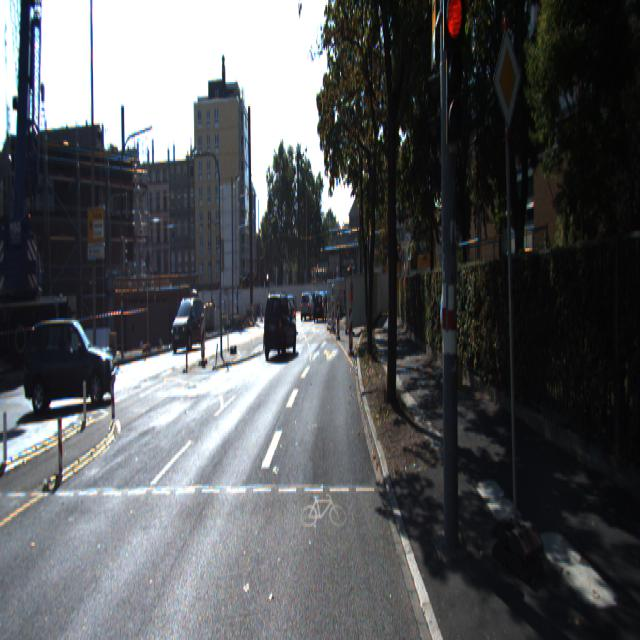Car: (26, 318, 118, 423), (262, 288, 298, 358), (170, 292, 205, 350), (283, 293, 296, 333)
